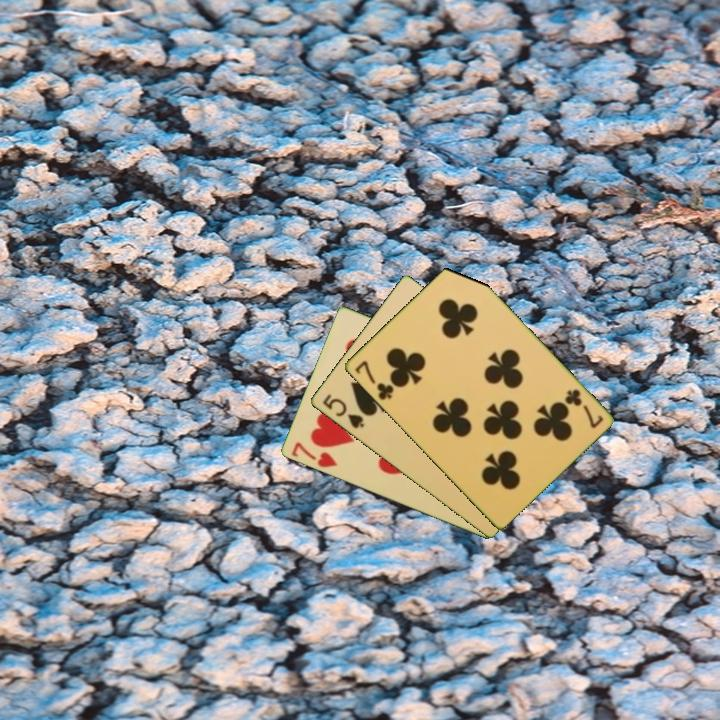5s: (319, 390, 367, 431)
7c: (351, 357, 396, 403), (561, 385, 606, 431)
7h: (287, 438, 340, 471)
